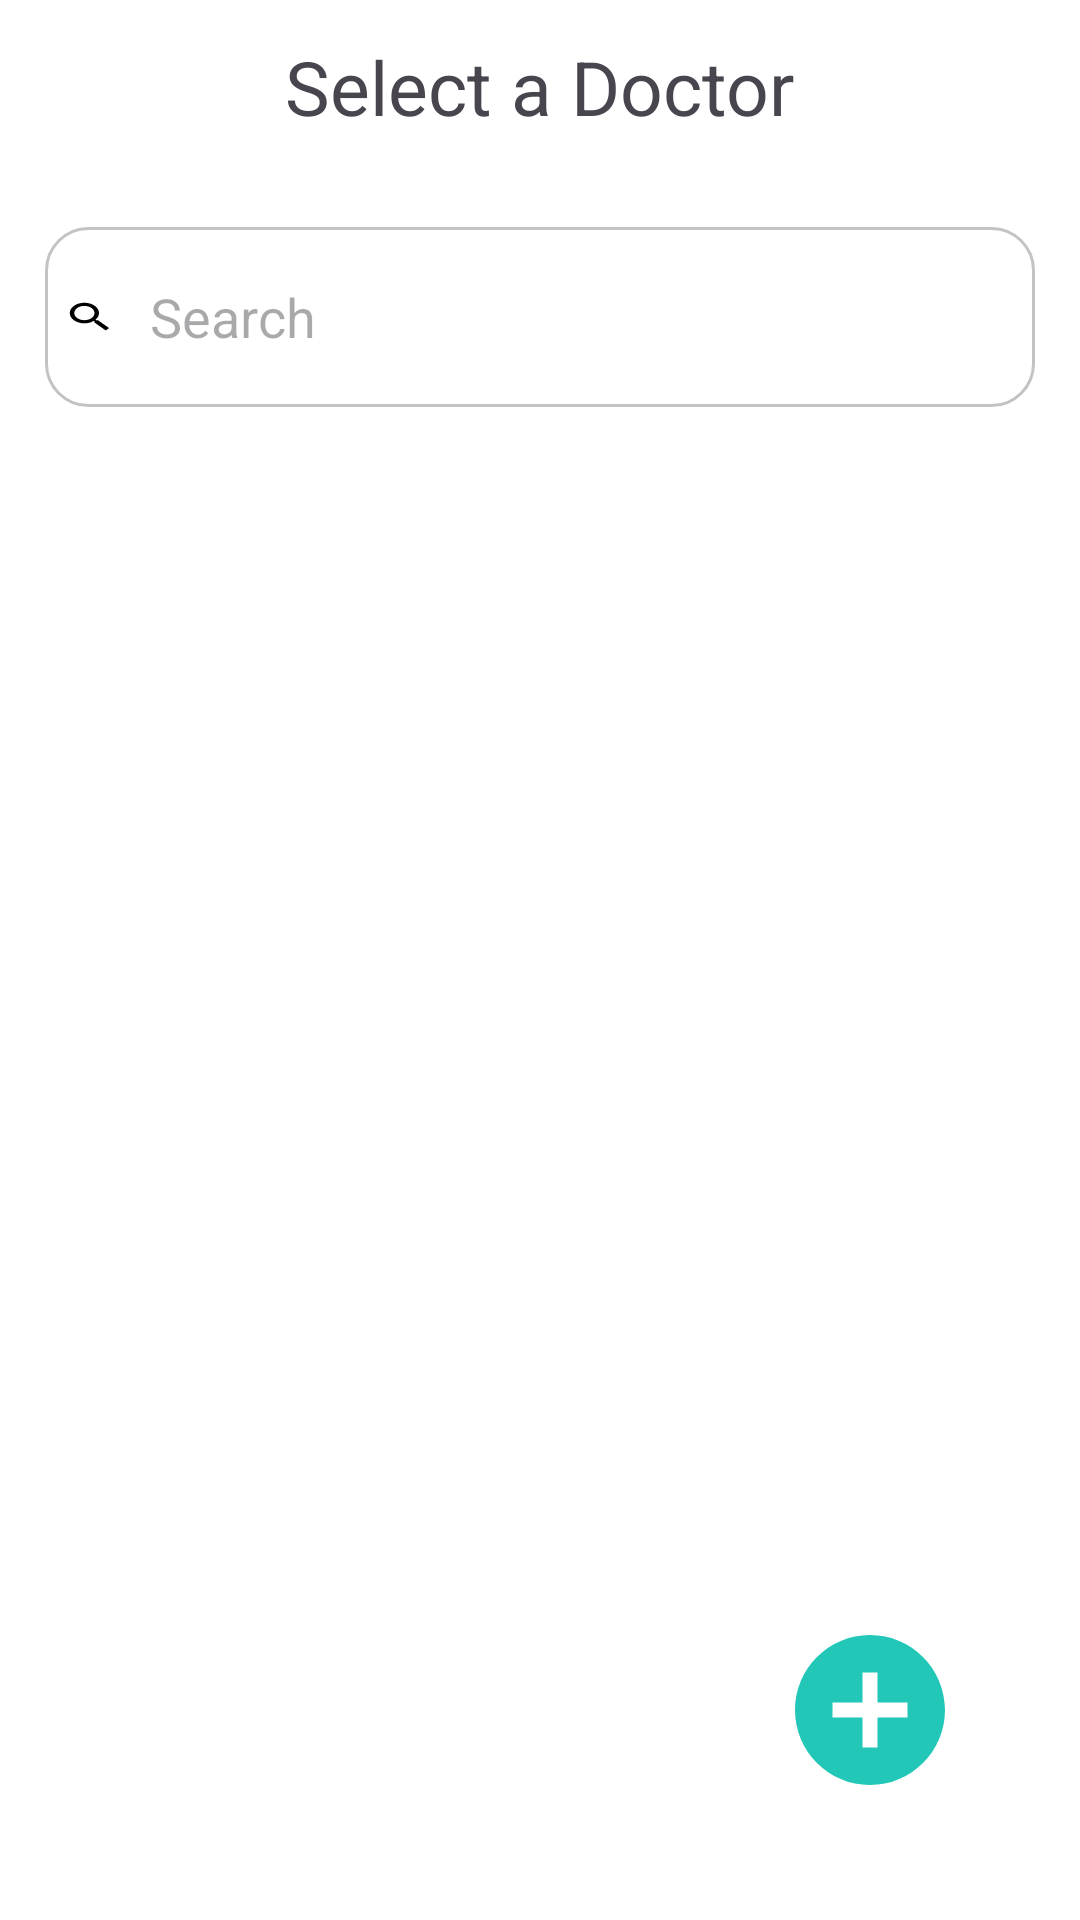

Icons on this 1080*1920 Android screen, each with the point to tap as (x,y):
add: (870,1710)
